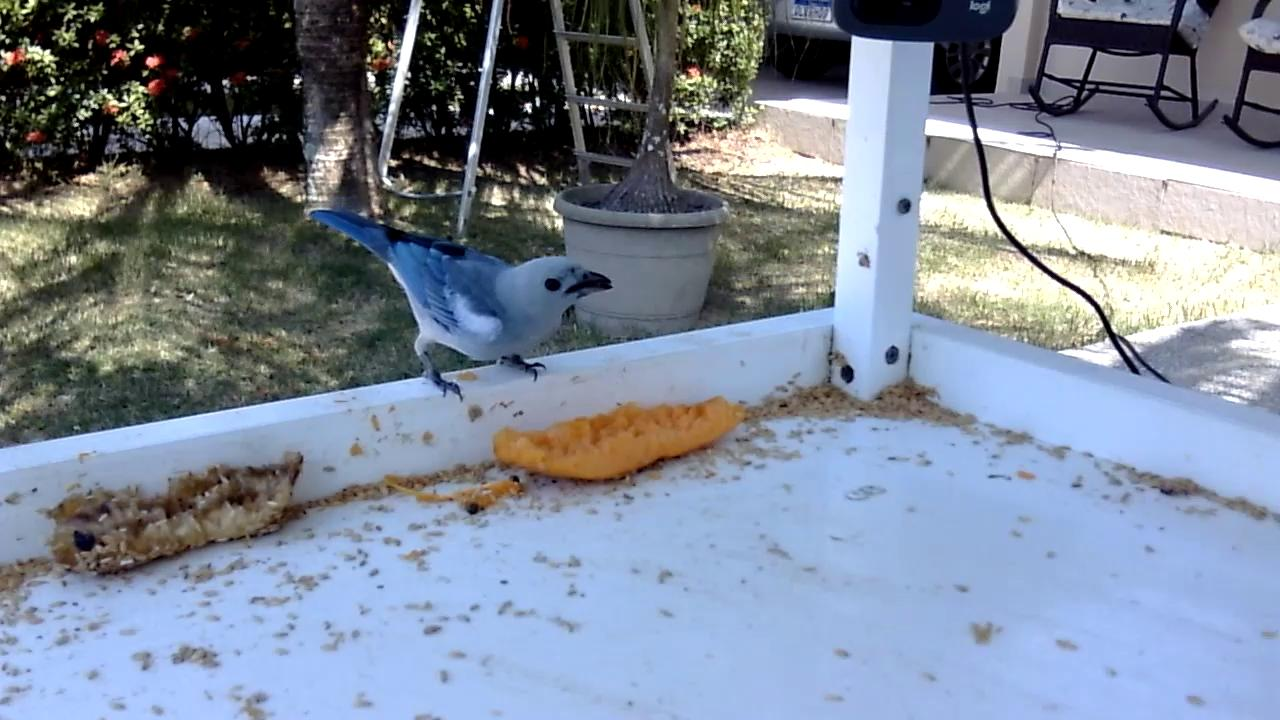sanhaco_da_amazonia: (310, 205, 615, 402)
